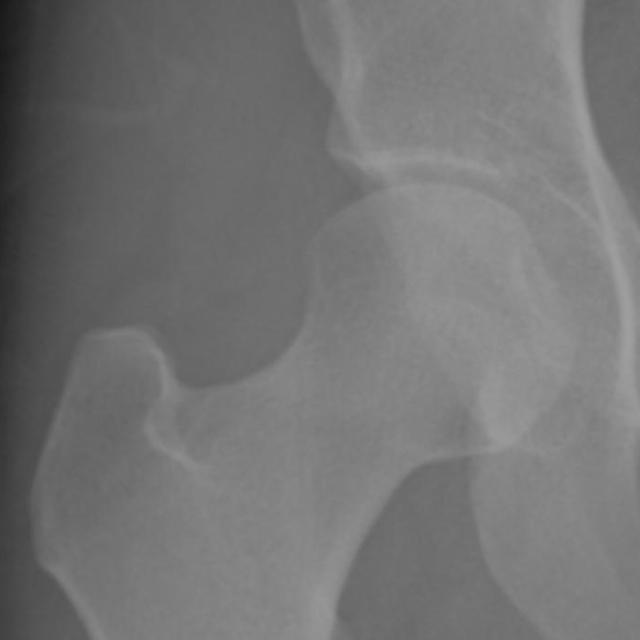Fitted_femural_head: (283, 176, 432, 283)
